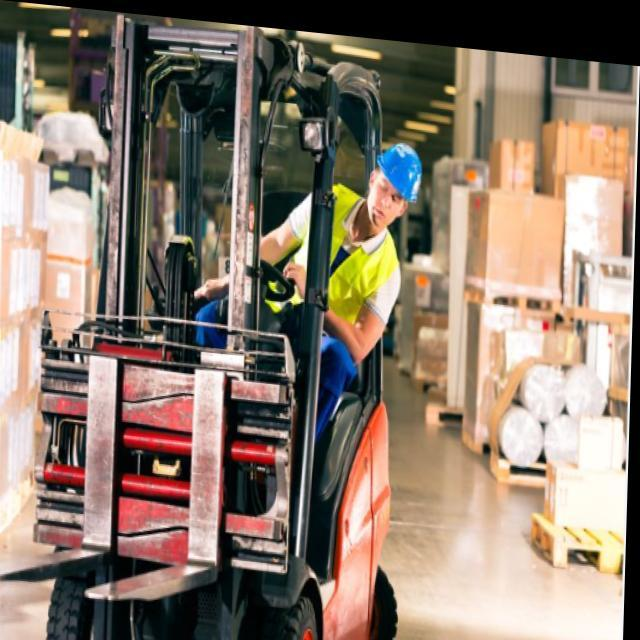helmet: (357, 140, 424, 250)
vest: (259, 175, 402, 353)
